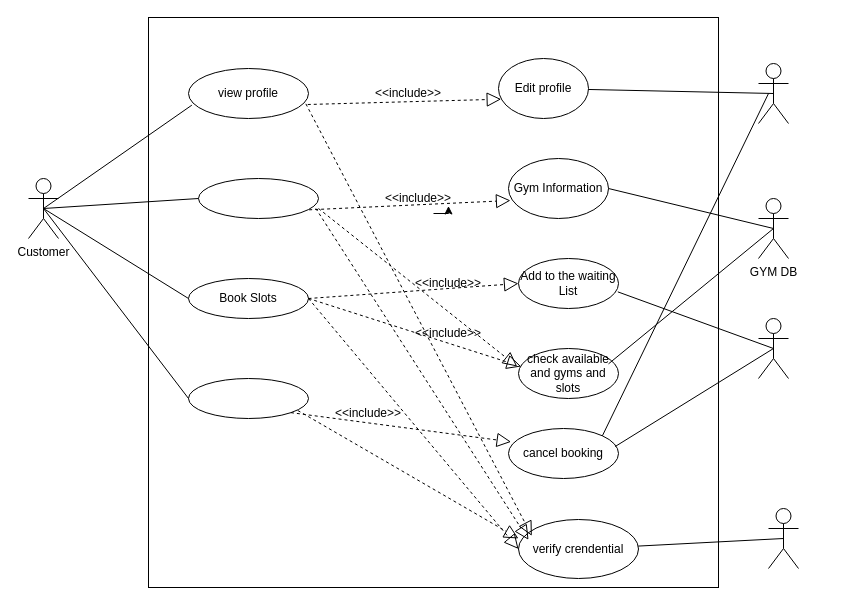
Some shapes in this 851 by 607 pixel diagram are drawn without their labels. The centre of each missing label's shape, as x and y in pixels:
Customer DB: pixel 773 93
Slot booking DB: pixel 773 348
User credential DB: pixel 783 538
view Booking: pixel 248 398
view Gym Information: pixel 258 198
